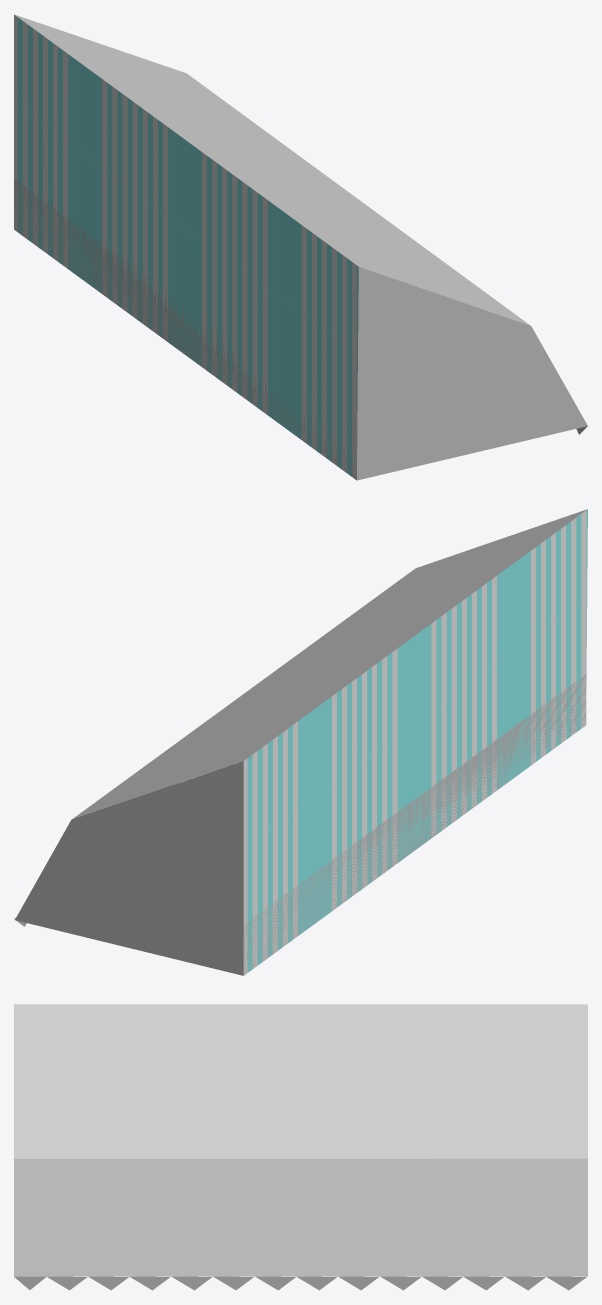
Rendered from cover.fbx.
3 views of the same model, one above another, from view 1: azimuth 30°, elevation 25°; view 2: azimuth 150°, elevation 25°; view 3: azimuth 270°, elevation 25° (orthographic). The views are drawn at different scales.
Visible parts, largest first — view 1: cover; view 2: cover; view 3: cover.
Part boxes in pixels (x1,y1,x2,y2): cover: (14,14,587,480); cover: (14,509,587,975); cover: (14,1004,587,1290).
Bounding box in the file's own units: 2.68 × 2.56 × 6.92.
